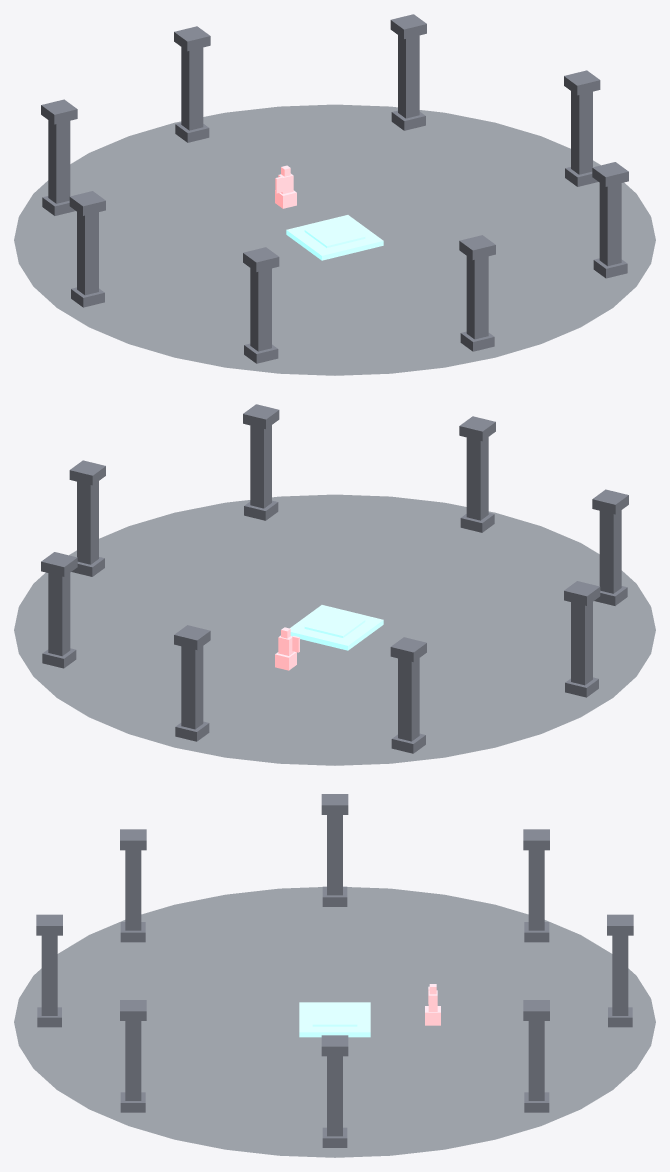
Rendered from arena_dark_sanctuary.glb.
3 views of the same model, one above another, from view 1: azimuth 30°, elevation 25°; view 2: azimuth 150°, elevation 25°; view 3: azimuth 270°, elevation 25° (orthographic).
Visible parts, largest first — view 1: FloorNode, PillarsNode, AltarNode, SentinelNode; view 2: FloorNode, PillarsNode, AltarNode, SentinelNode; view 3: FloorNode, PillarsNode, AltarNode, SentinelNode.
Part boxes in pixels (x1,y1,x2,y2): FloorNode: [14, 104, 655, 375]; PillarsNode: [41, 14, 628, 363]; AltarNode: [286, 215, 383, 260]; SentinelNode: [275, 165, 296, 208]; FloorNode: [14, 494, 655, 765]; PillarsNode: [41, 404, 628, 753]; AltarNode: [290, 605, 383, 650]; SentinelNode: [275, 627, 299, 670]; FloorNode: [14, 887, 655, 1157]; PillarsNode: [36, 794, 633, 1147]; AltarNode: [299, 1002, 370, 1037]; SentinelNode: [425, 984, 440, 1025].
Bounding box in the file's own units: 36 × 6.3 × 36.
